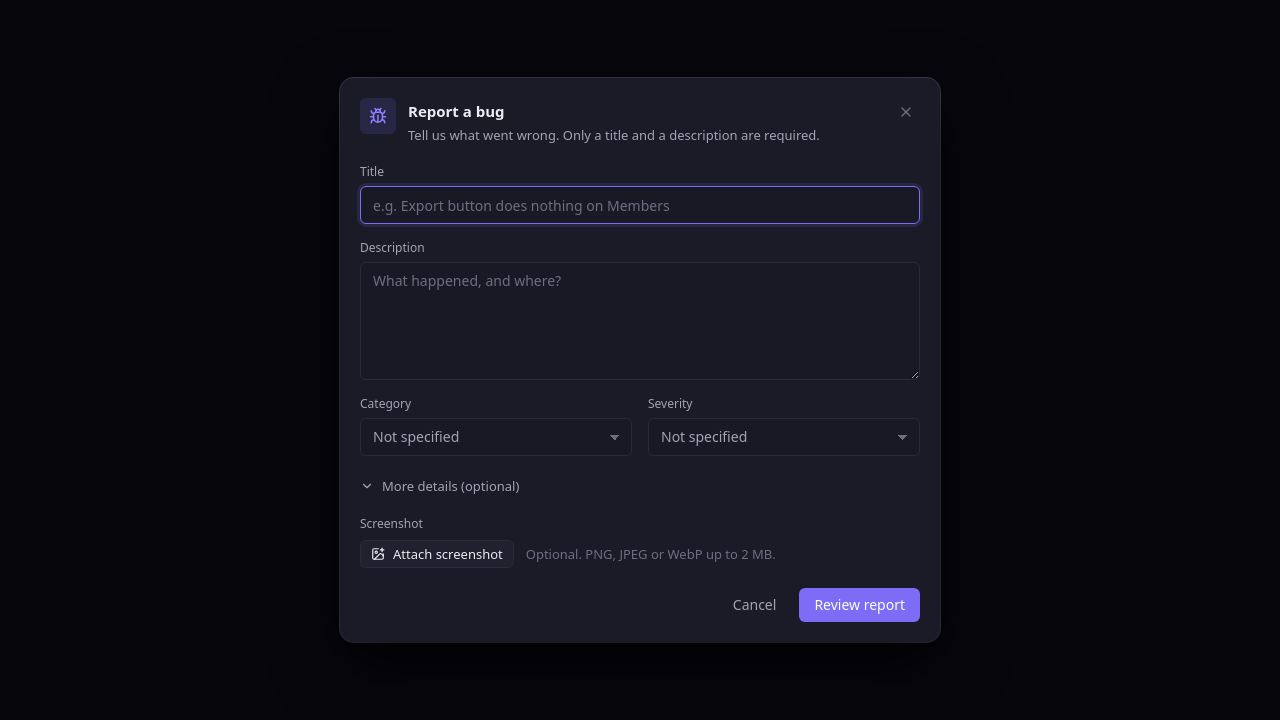
Test: Report a bug › says clearly when the report was saved but not emailed
Type "  Export does nothing " into the field labelled "Title" at (640, 205), box [361,187,919,223]
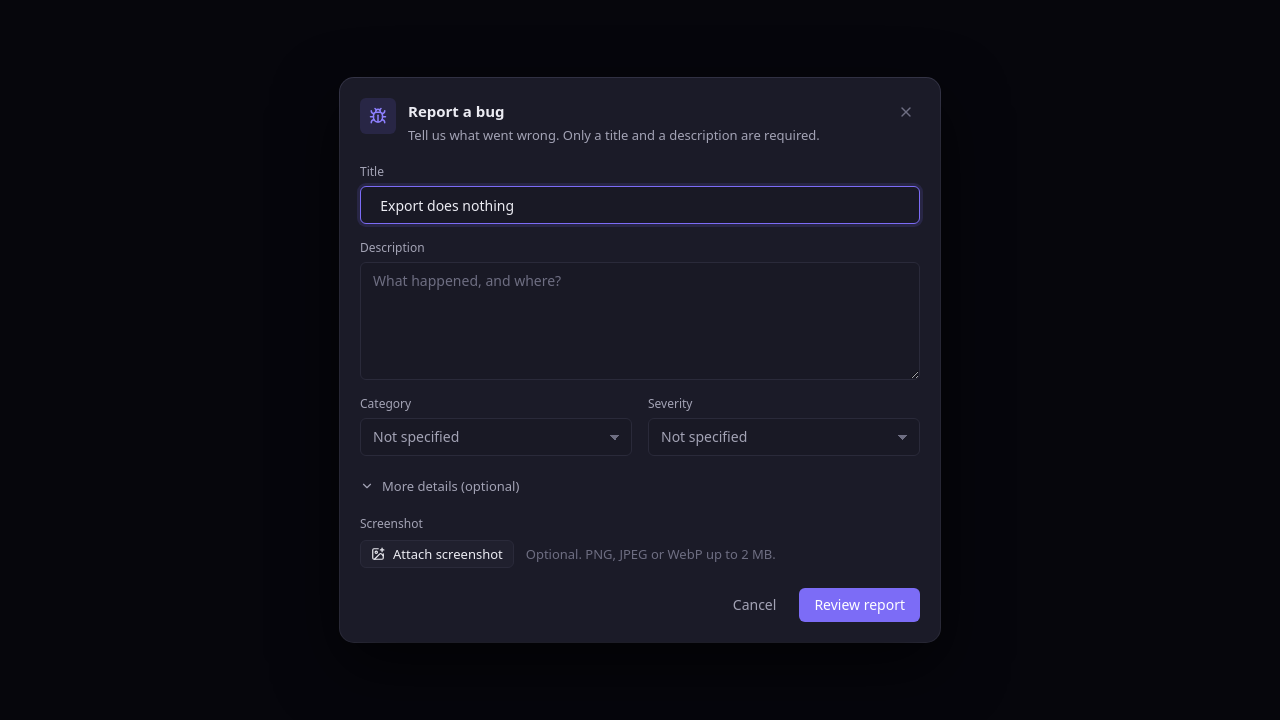
Type "No file is downloaded." into the text box labelled "Description" at (640, 321), box [361,263,919,379]
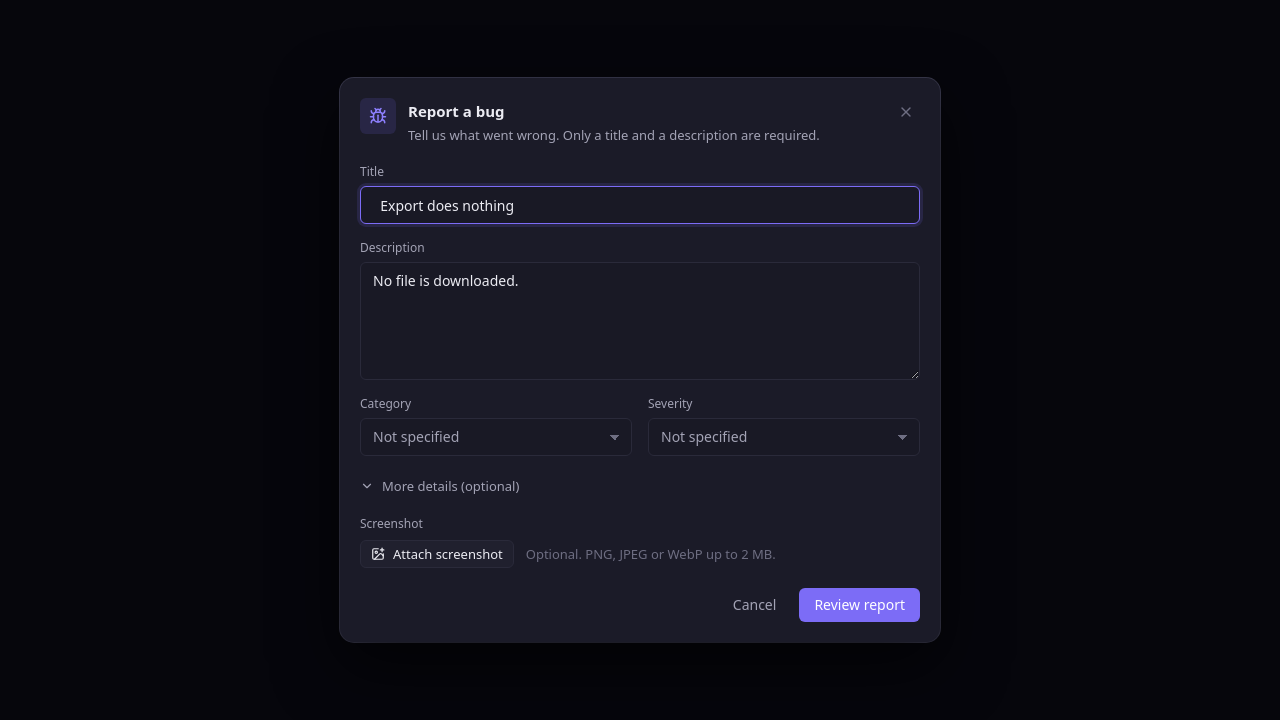
Click the button "Review report" at (860, 605), box [799,588,920,622]
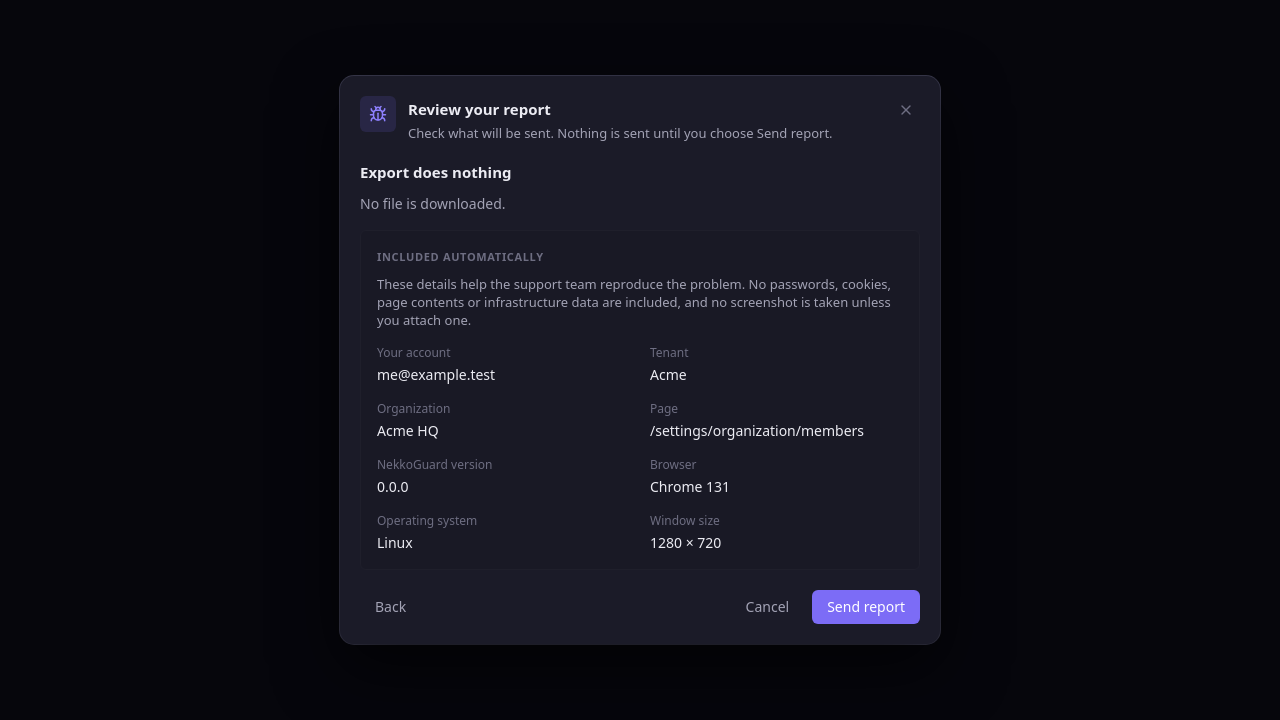
Click the button "Send report" at (866, 607), box [812,590,920,624]
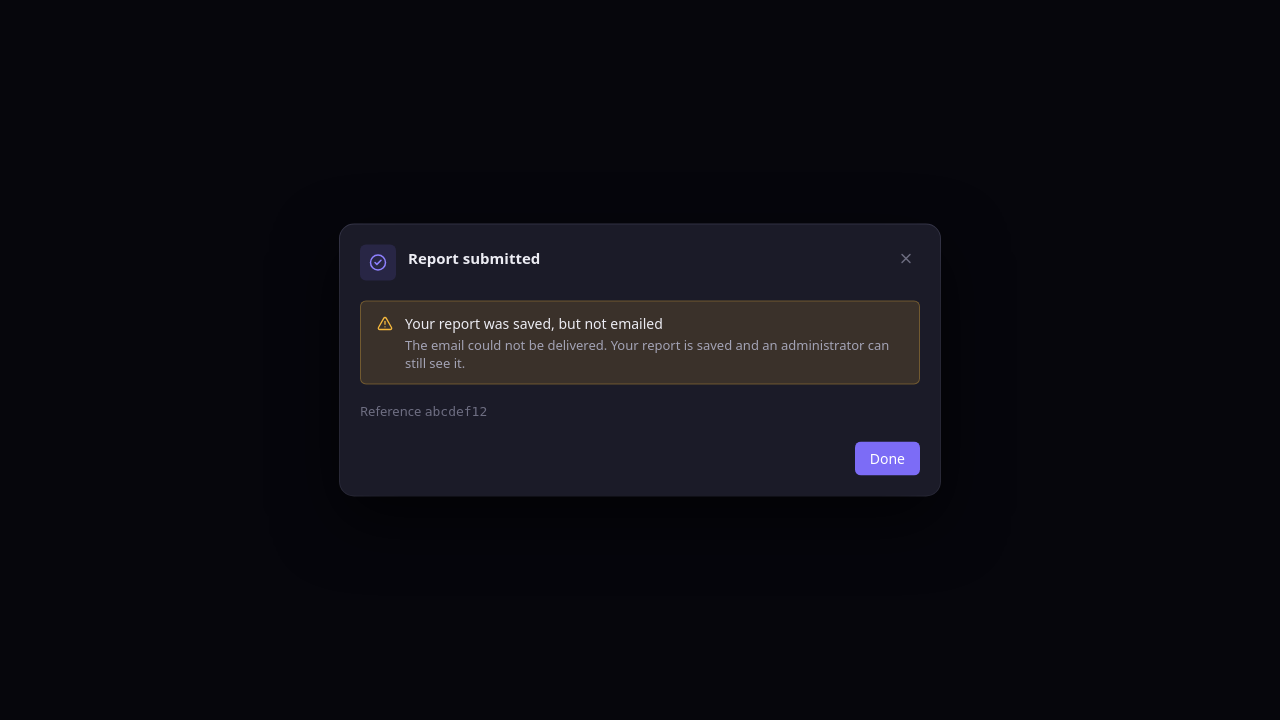
Now the text "Your report was saved, but not emailed" is shown, box [405,314,663,332]
